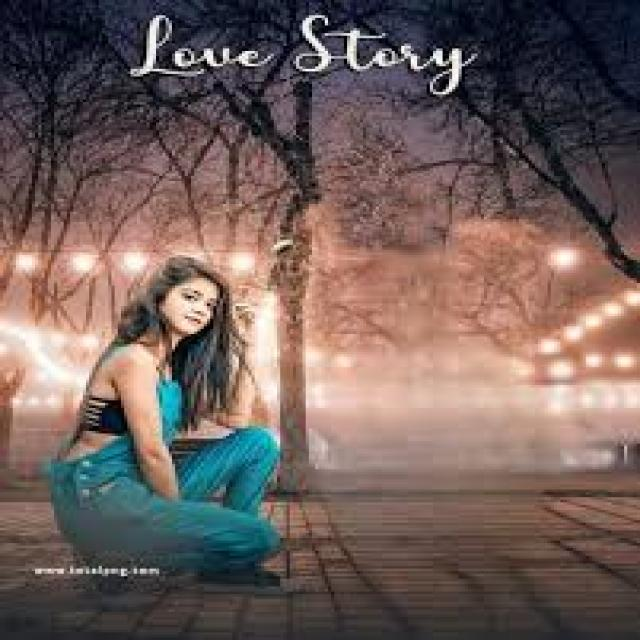Edited images: (36, 246, 308, 595)
